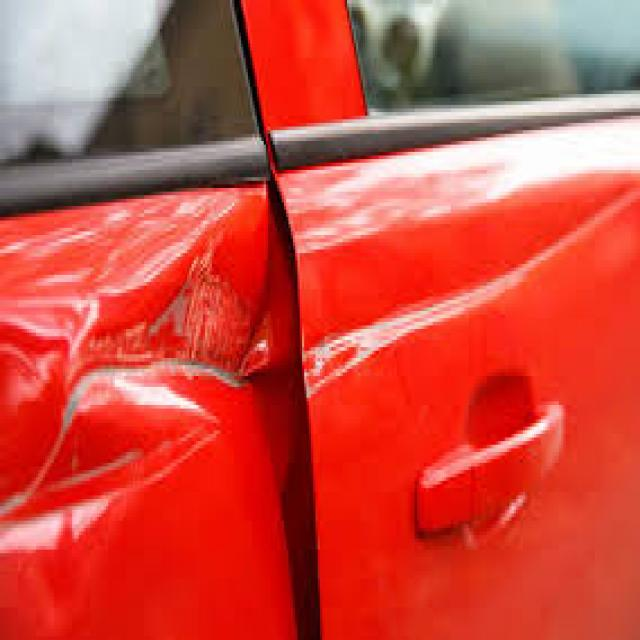minor: (84, 94, 628, 603)
